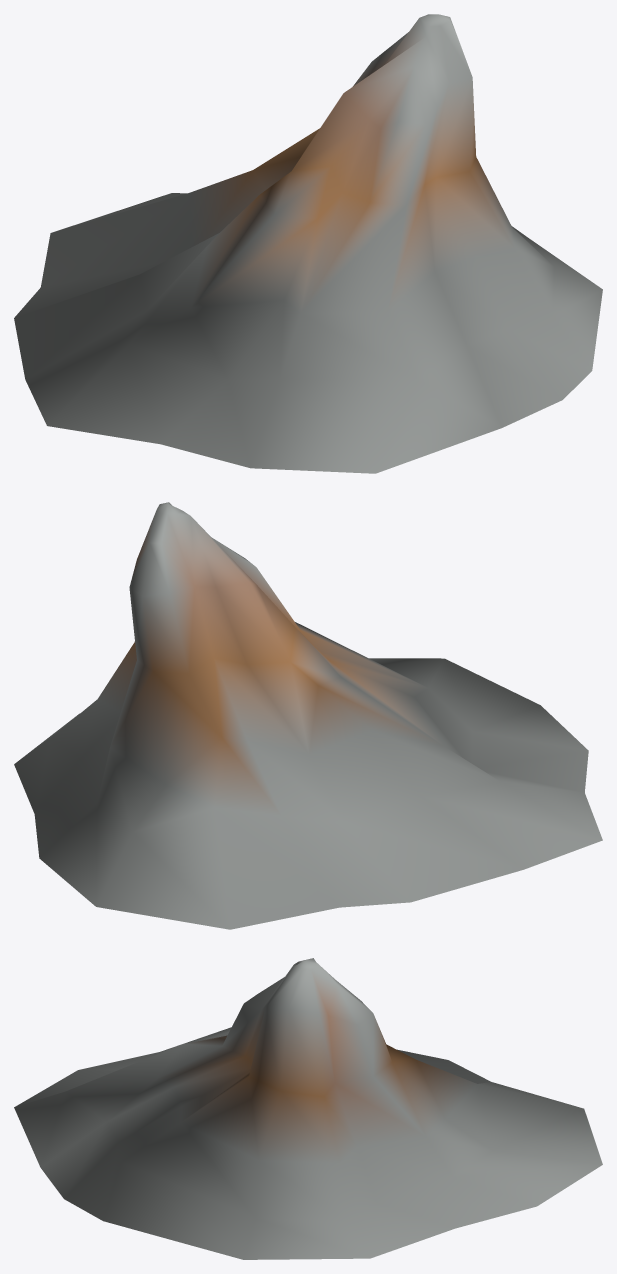
3 views of the same model, one above another, from view 1: azimuth 30°, elevation 25°; view 2: azimuth 150°, elevation 25°; view 3: azimuth 270°, elevation 25° (orthographic). The views are drawn at different scales.
Parts seen in each view (by area): view 1: G:\FFXIV-MapTools\exports\s1f6\bg\ffxiv\sea_s1\fld\s1f5\bgpa; view 2: G:\FFXIV-MapTools\exports\s1f6\bg\ffxiv\sea_s1\fld\s1f5\bgpa; view 3: G:\FFXIV-MapTools\exports\s1f6\bg\ffxiv\sea_s1\fld\s1f5\bgpa.
Boxes of the visible parts, x1,y1,x2,y2 form: G:\FFXIV-MapTools\exports\s1f6\bg\ffxiv\sea_s1\fld\s1f5\bgpa: (14, 14, 602, 473); G:\FFXIV-MapTools\exports\s1f6\bg\ffxiv\sea_s1\fld\s1f5\bgpa: (14, 502, 602, 929); G:\FFXIV-MapTools\exports\s1f6\bg\ffxiv\sea_s1\fld\s1f5\bgpa: (14, 958, 602, 1259).
Bounding box in the file's own units: 9.07 × 4.38 × 9.55.
